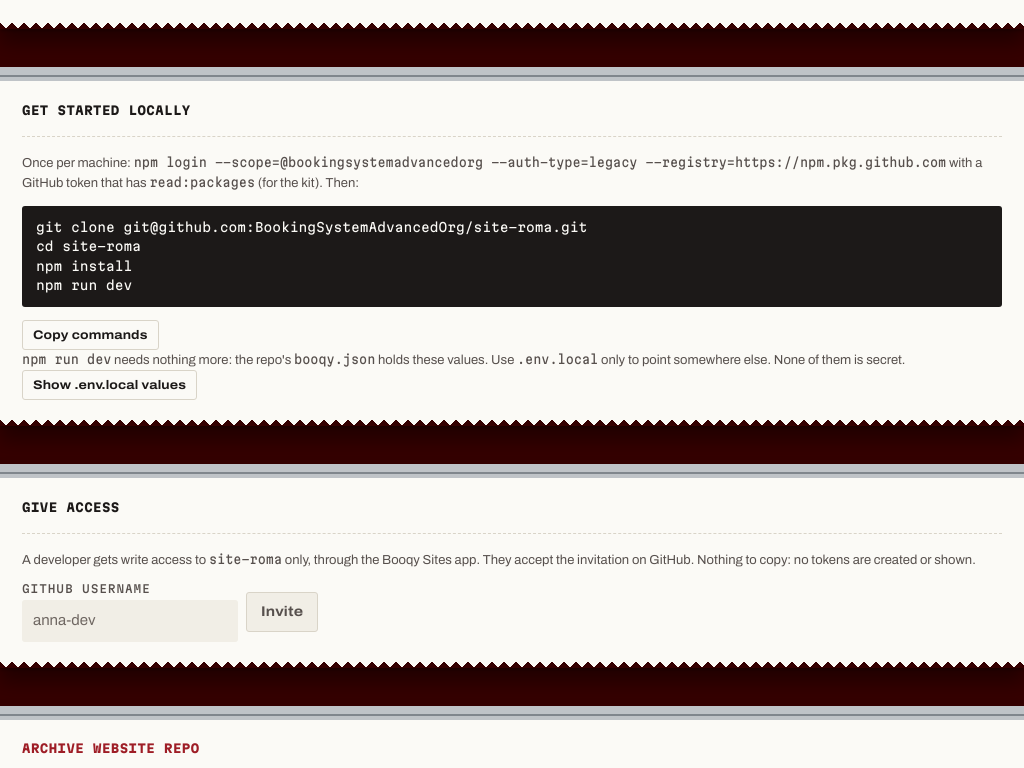
Test: WebsiteTab › keeps the .env.local values behind Show
(page scrolled)
Expected: the heading "Get started locally" is shown, [22,103,191,118]
Expected: the text "VITE_API_BASE_URL=" is not shown
Click the button "Show .env.local values": (110, 385) [22,370,197,400]
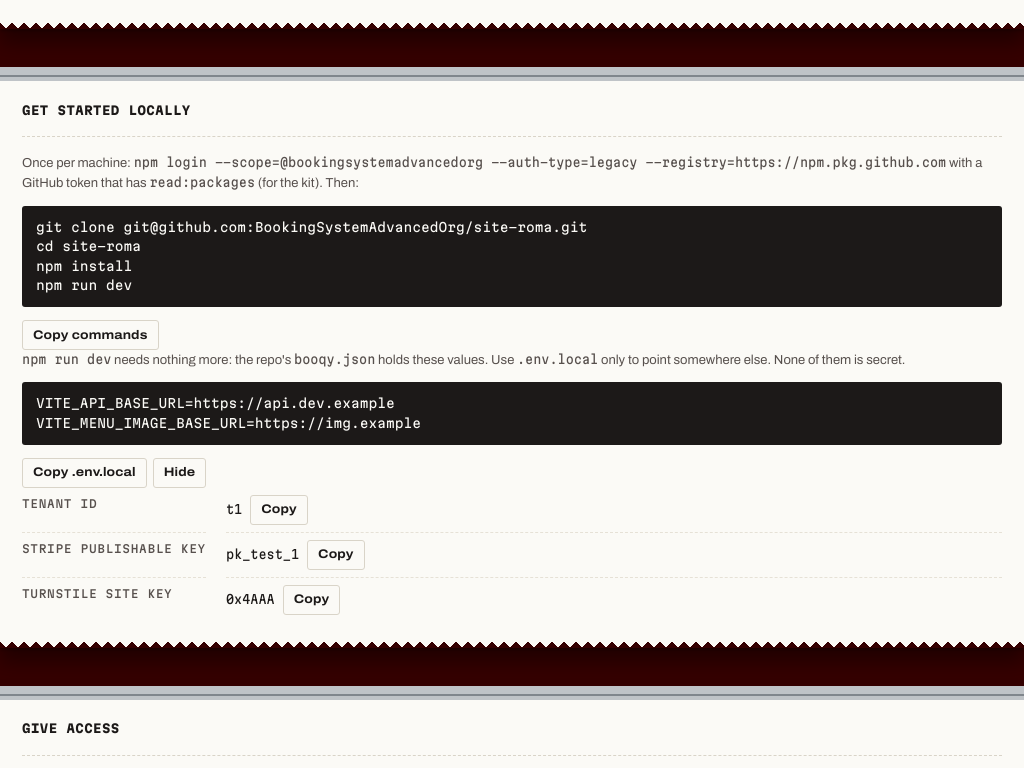
Now the text "VITE_API_BASE_URL=https://api.dev.example" is shown, box [36,395,421,431]
Now the text "pk_test_1" is shown, box [226,545,299,564]
